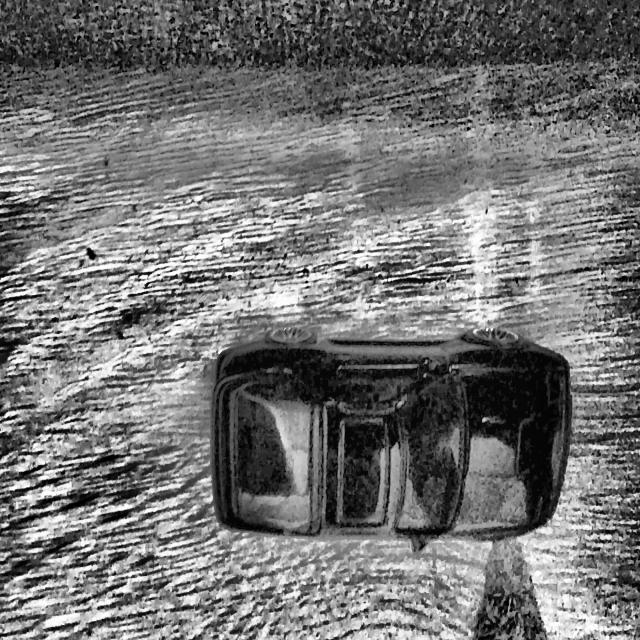car: (210, 324, 572, 551)
